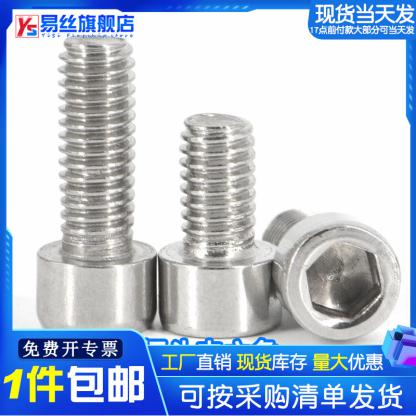FOD: (34, 39, 160, 336), (156, 113, 284, 336), (260, 208, 402, 344)
